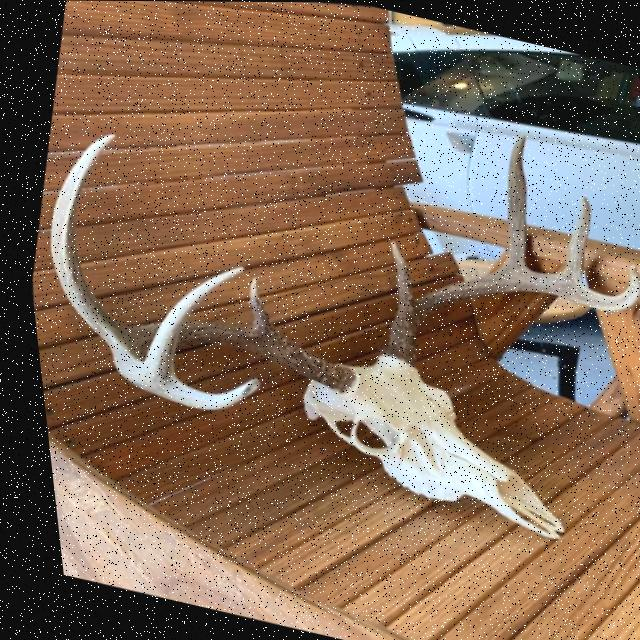L-F: (371, 263, 636, 366)
L-G1: (385, 239, 407, 307)
L-G2: (491, 133, 523, 270)
L-G3: (555, 194, 586, 280)
R-G1: (241, 276, 270, 331)
R-G2: (45, 133, 123, 352)
R-G3: (135, 264, 239, 377)
